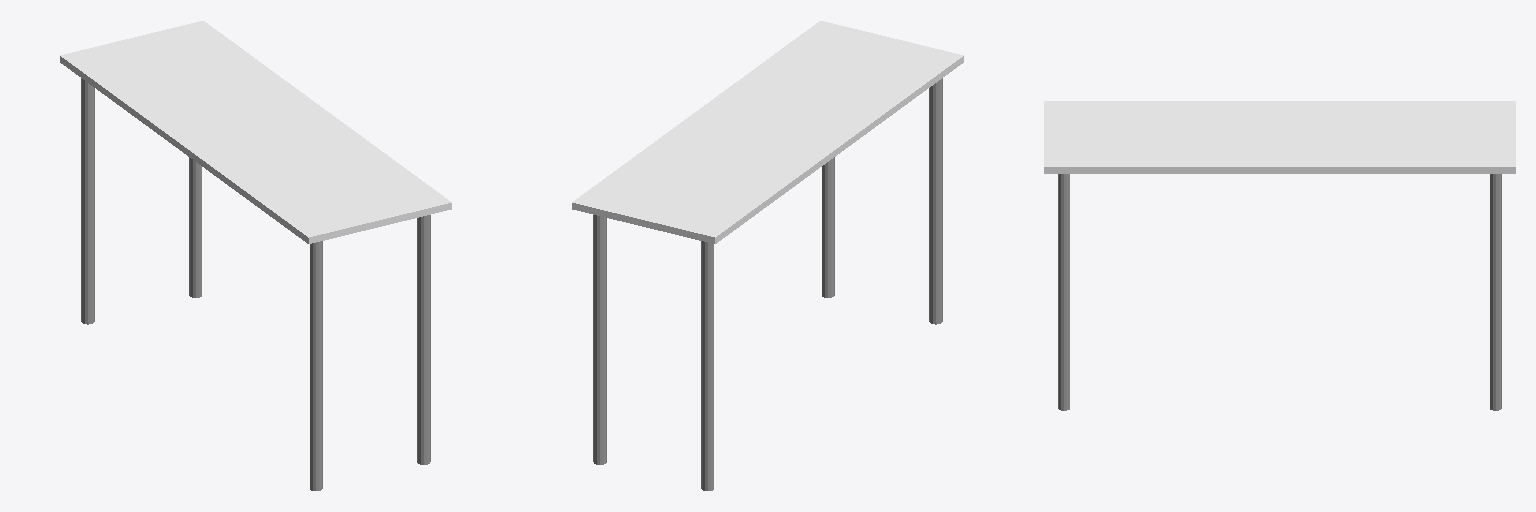
The robot description file, URDF, robot "askul-1200-desk":
<?xml version="1.0"?>
<robot name="askul-1200-desk"
       xmlns:xi="http://www.w3.org/2001/XInclude"
       xmlns:gazebo="http://playerstage.sourceforge.net/gazebo/xmlschema/#gz"
       xmlns:model="http://playerstage.sourceforge.net/gazebo/xmlschema/#model"
       xmlns:sensor="http://playerstage.sourceforge.net/gazebo/xmlschema/#sensor"
       xmlns:body="http://playerstage.sourceforge.net/gazebo/xmlschema/#body"
       xmlns:geom="http://playerstage.sourceforge.net/gazebo/xmlschema/#geom"
       xmlns:joint="http://playerstage.sourceforge.net/gazebo/xmlschema/#joint"
       xmlns:interface="http://playerstage.sourceforge.net/gazebo/xmlschema/#interface"
       xmlns:rendering="http://playerstage.sourceforge.net/gazebo/xmlschema/#rendering"
       xmlns:renderable="http://playerstage.sourceforge.net/gazebo/xmlschema/#renderable"
       xmlns:controller="http://playerstage.sourceforge.net/gazebo/xmlschema/#controller"
       xmlns:physics="http://playerstage.sourceforge.net/gazebo/xmlschema/#physics">
  <gazebo>
    <static>false</static>
  </gazebo>
  <link name="nil_link">
    <visual>
      <origin xyz="0 0 0" rpy="0 -0 0"/>
      <geometry>
        <mesh filename="model://askul-1200-desk/meshes/nil_link_mesh.dae" scale="1 1 1" />
      </geometry>
    </visual>
    <collision>
      <origin xyz="0 0 0" rpy="0 -0 0"/>
      <geometry>
        <mesh filename="model://askul-1200-desk/meshes/nil_link_mesh.dae" scale="1 1 1" />
      </geometry>
    </collision>
    <inertial>
      <mass value="0.001" />
      <origin xyz="0 0 0" rpy="0 -0 0"/>
      <inertia ixx="1e-09" ixy="0" ixz="0" iyy="1e-09" iyz="0" izz="1e-09"/>
    </inertial>
  </link>
  <gazebo reference="nil_link">
    <mu1>0.9</mu1>
    <mu2>0.9</mu2>
  </gazebo>
</robot>

--- Facts derived from the render (not from the file) ---
The picture shows the robot from 3 angles, left to right: view 1: azimuth 30°, elevation 25°; view 2: azimuth 150°, elevation 25°; view 3: azimuth 270°, elevation 25°; orthographic projection.
Robot: askul-1200-desk — 1 links, 0 joints (none); root link nil_link; default pose: every joint at zero.
Links seen in each view (by area): view 1: nil_link; view 2: nil_link; view 3: nil_link.
Link boxes in pixels (x1,y1,x2,y2): nil_link: [60, 21, 451, 490]; nil_link: [572, 21, 963, 490]; nil_link: [1044, 101, 1515, 410].
Bounding box of the posed robot: 0.4 × 1.2 × 0.7 m (x, y, z).
1 mesh visuals loaded from 1 distinct referenced files (1 Collada DAE).
